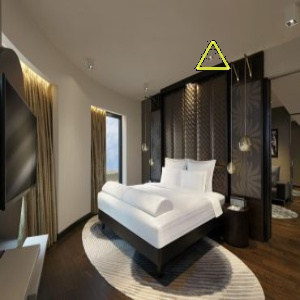triangle: (192, 37, 234, 74)
